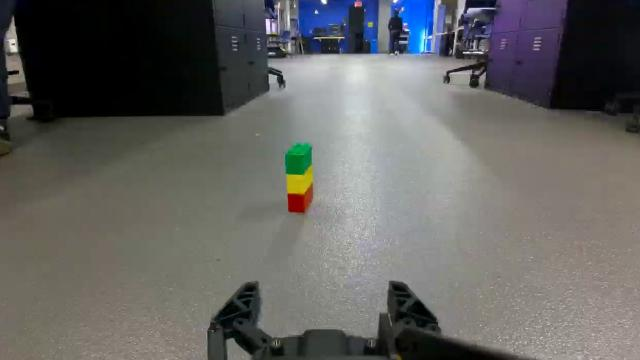lego: (285, 139, 315, 214)
